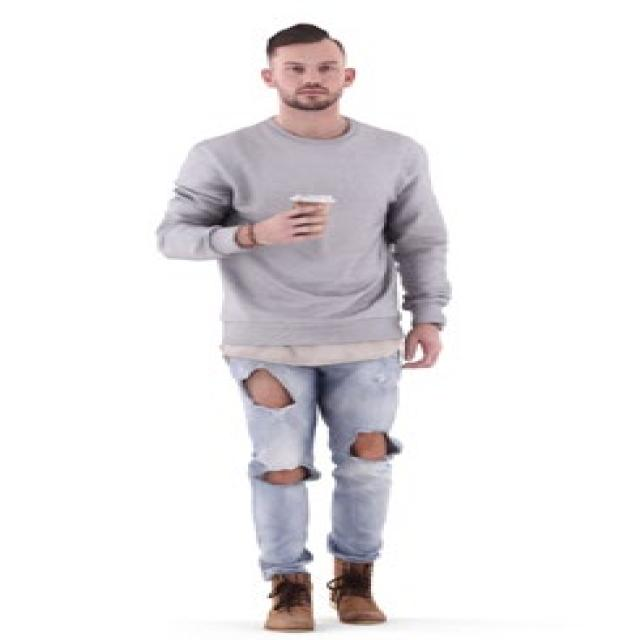standing: (158, 18, 458, 632)
